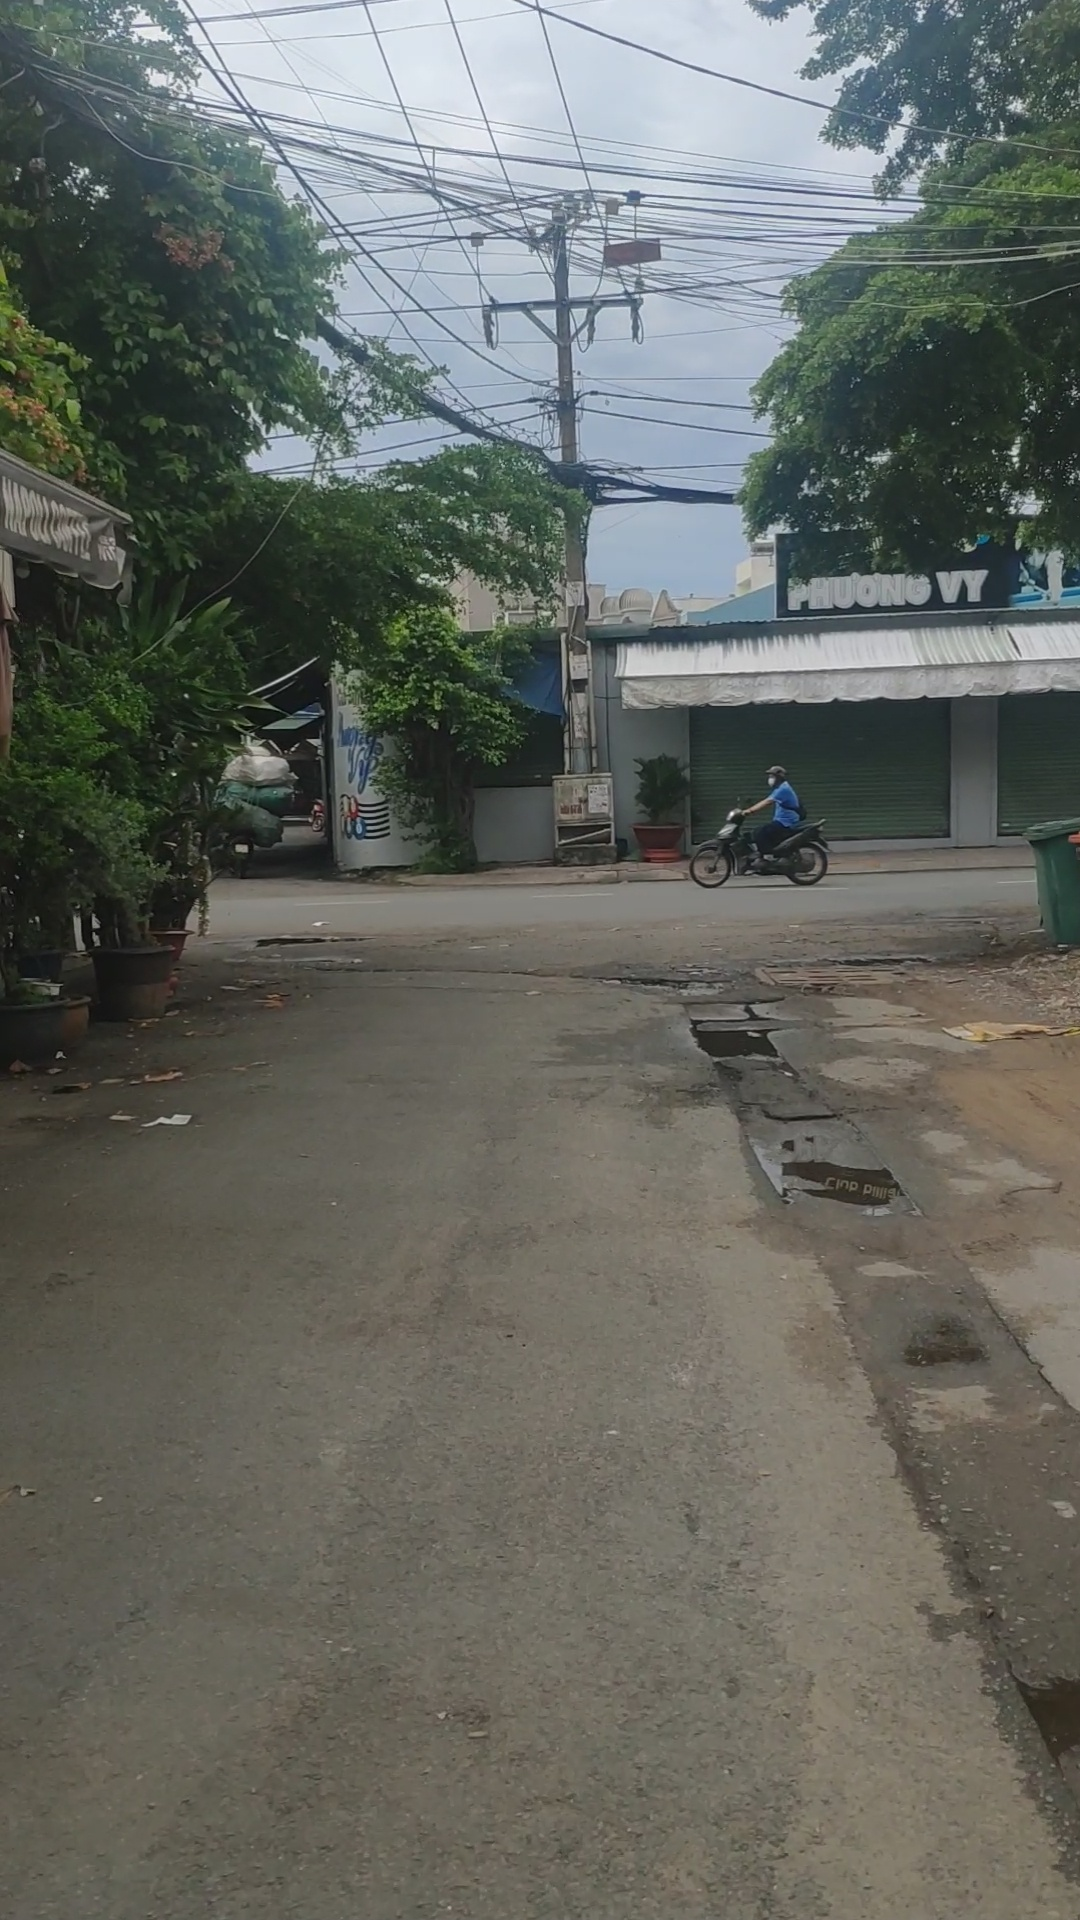hole: (754, 1126, 913, 1215), (868, 1300, 1005, 1381), (688, 1000, 773, 1065), (572, 971, 750, 996), (214, 930, 373, 951), (827, 953, 938, 971)
